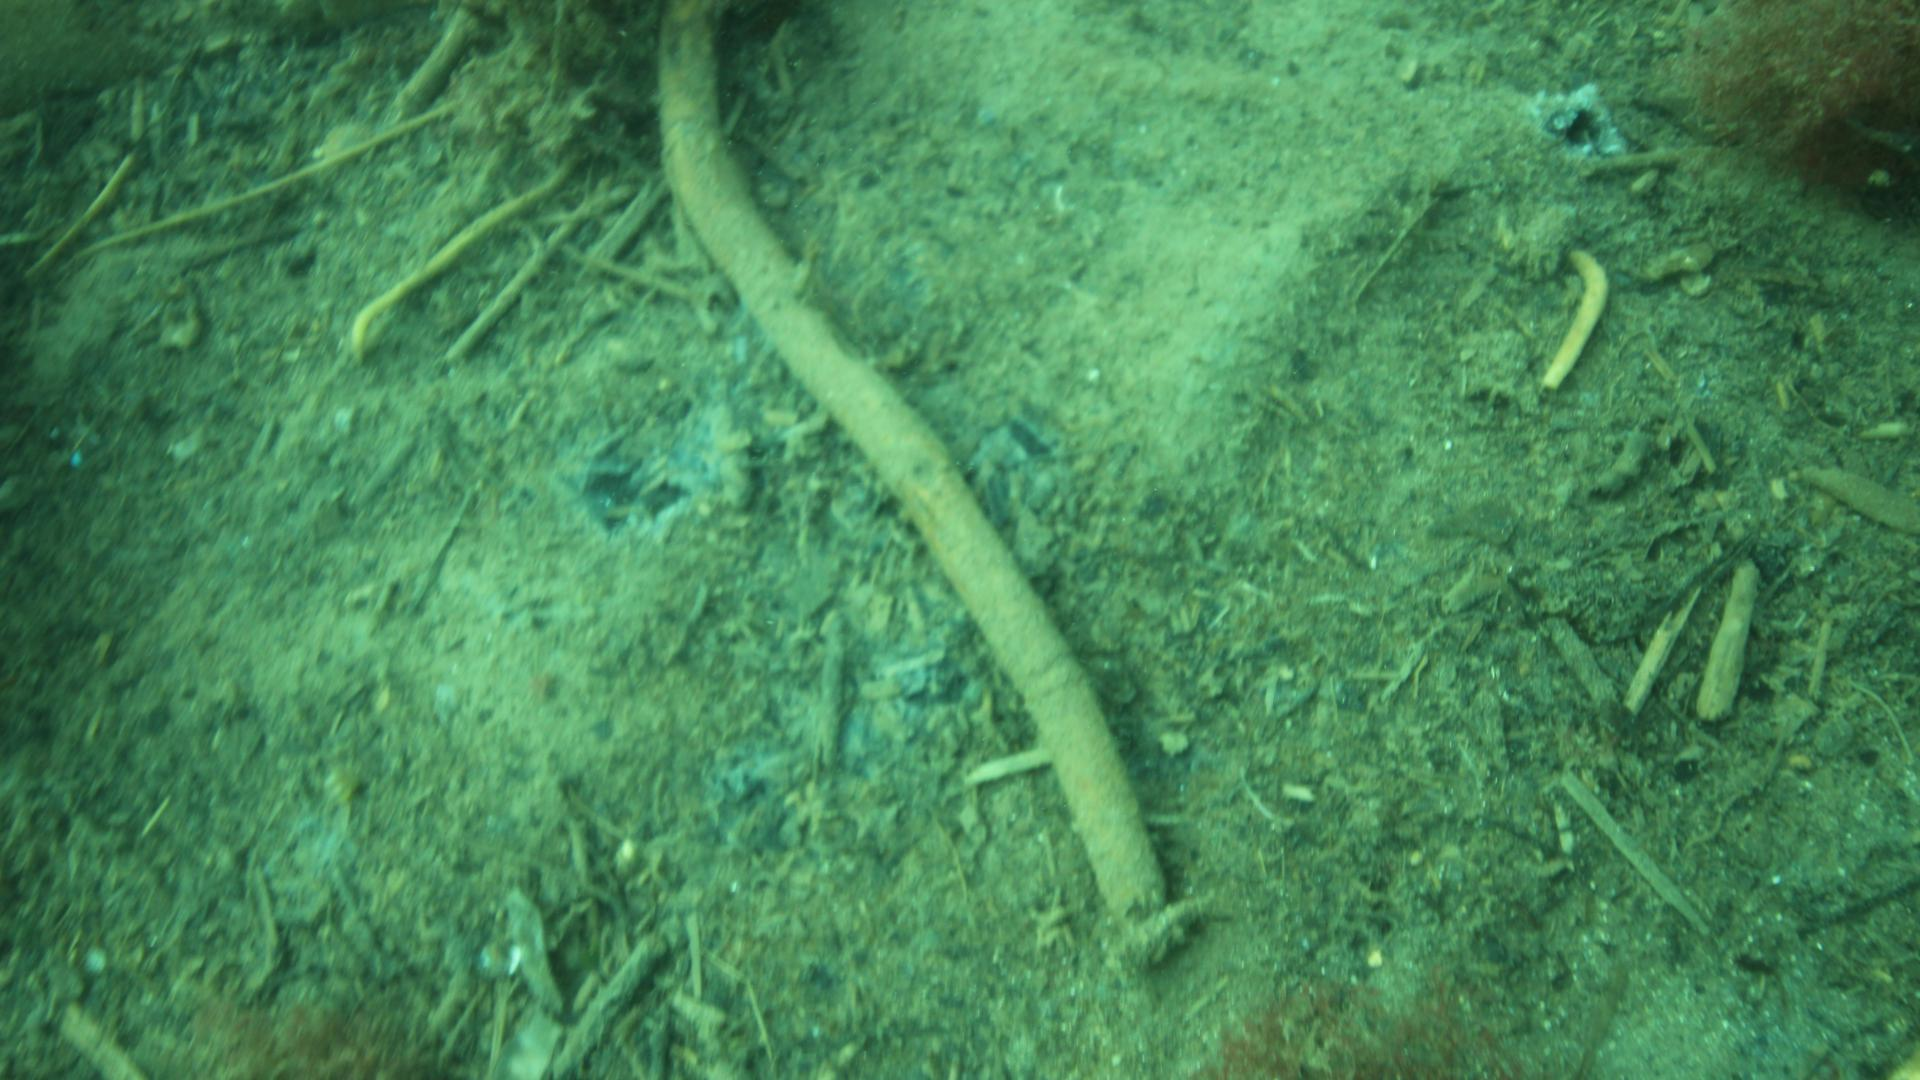wood: (661, 22, 1168, 909)
